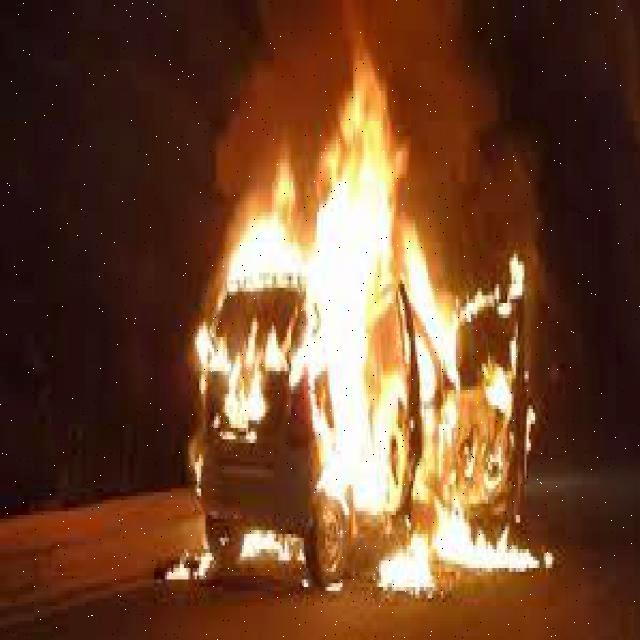fire: (207, 90, 552, 599)
